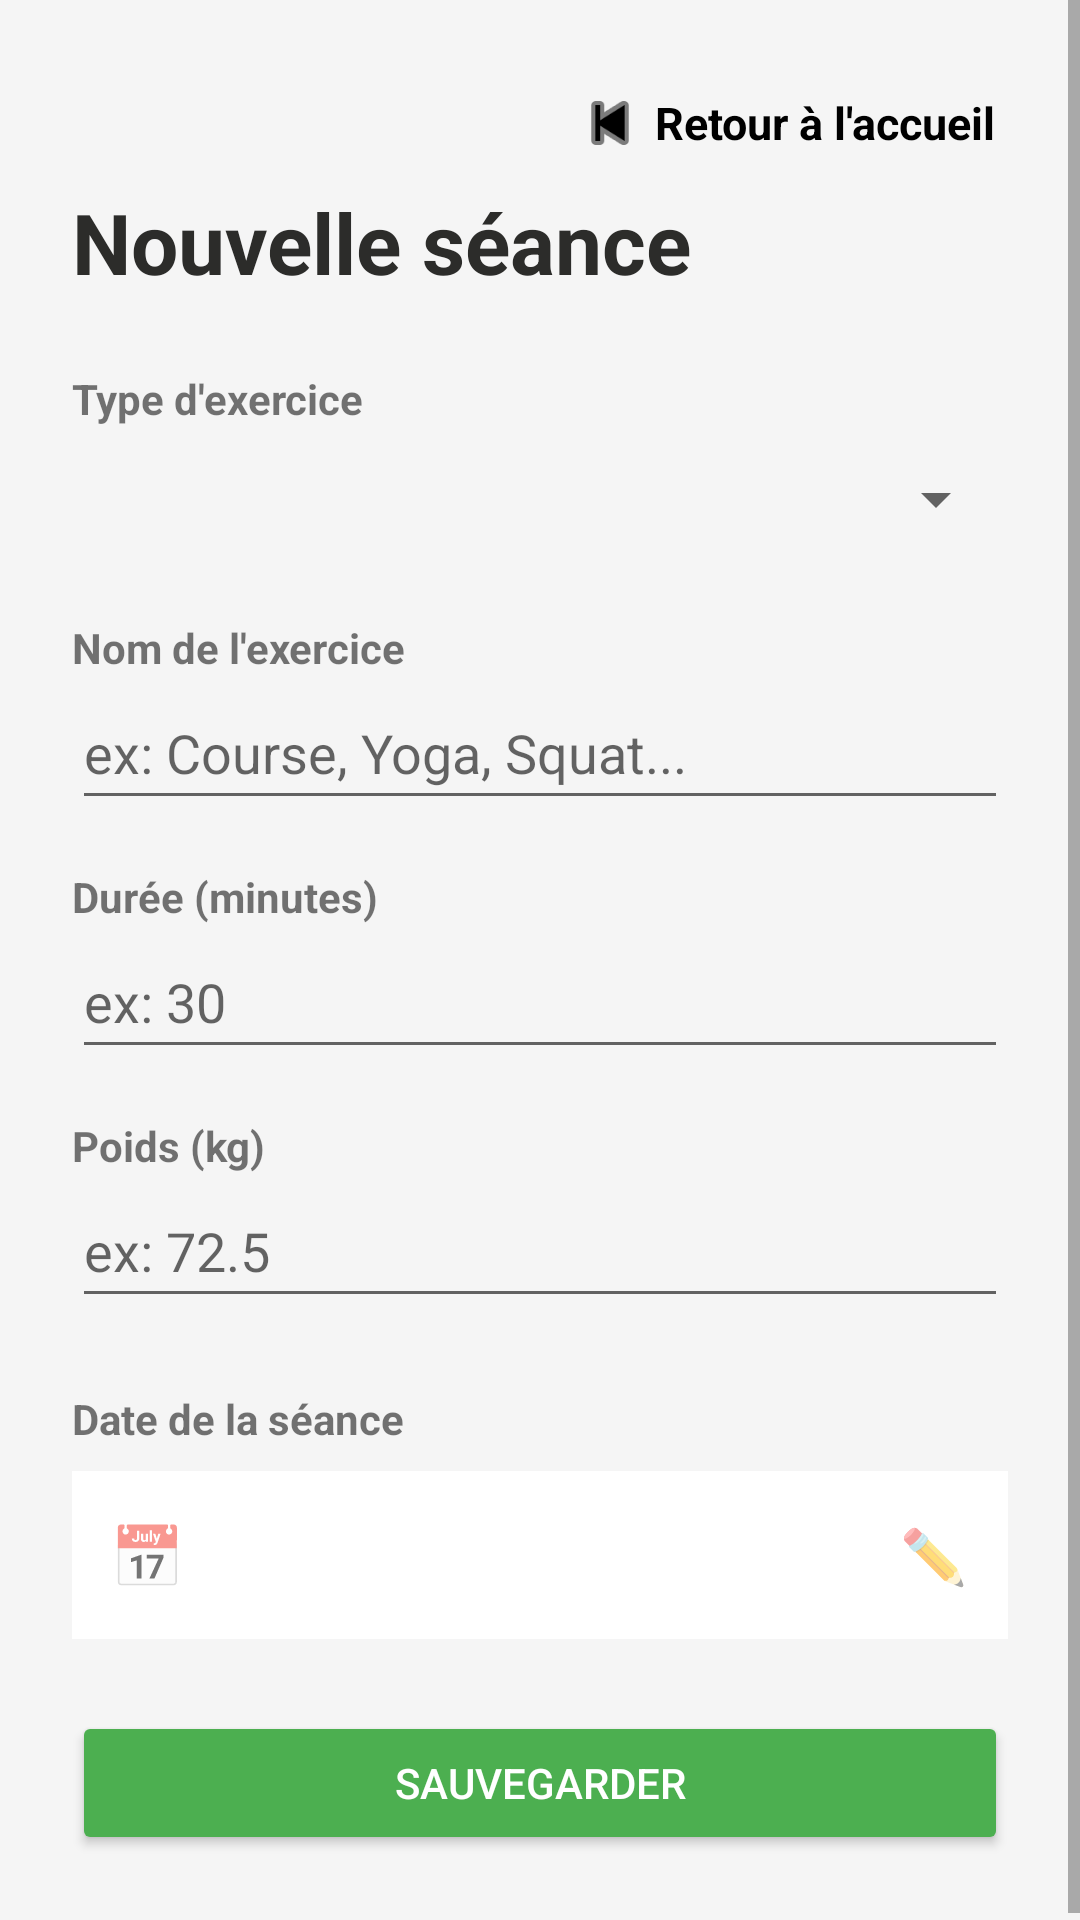

Icons on this 1080px×1920px Android screen, each with its box as (x1, y1, x2, y2):
previous: (591, 101, 629, 145)
